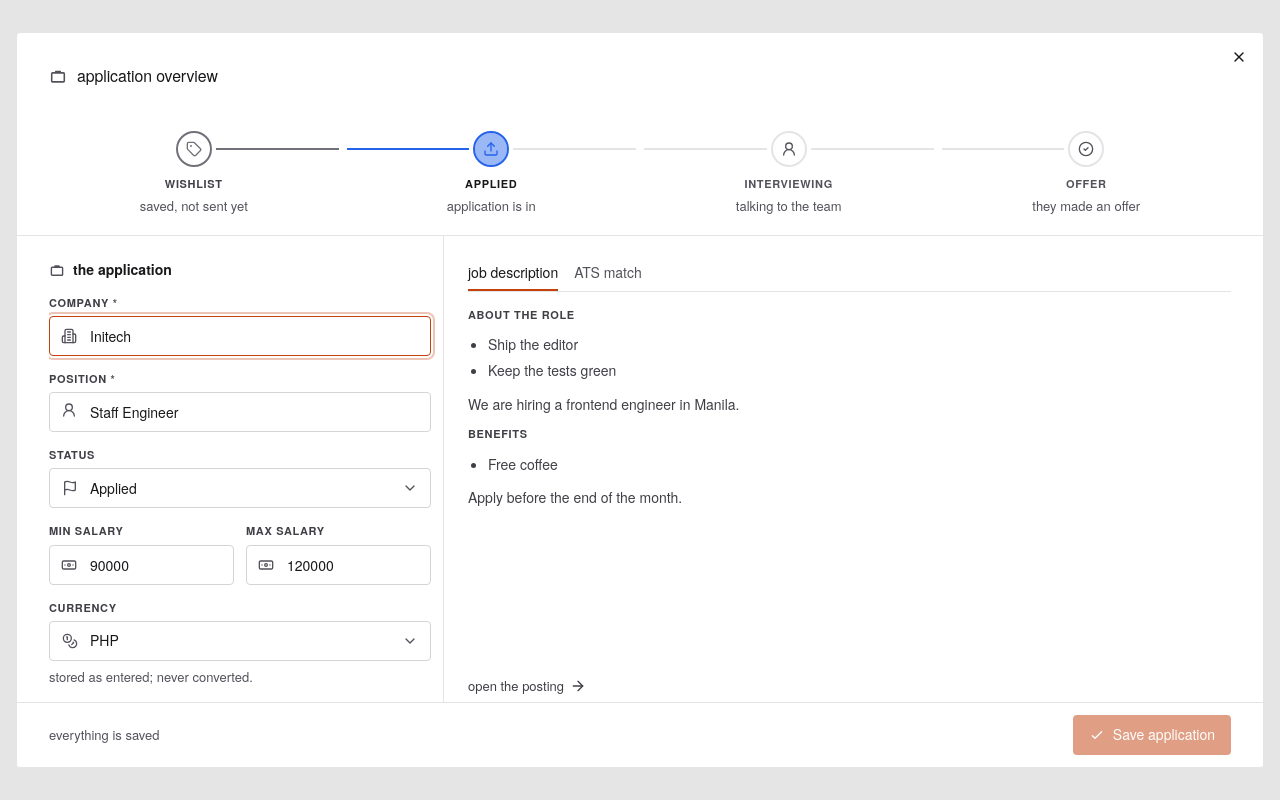
Test: reading the whole posting › comes back to the record with a typed-but-unsaved field still in it
Replace the text in the field labelled "company *" with "Umbrella": (240, 336) [49,316,431,356]
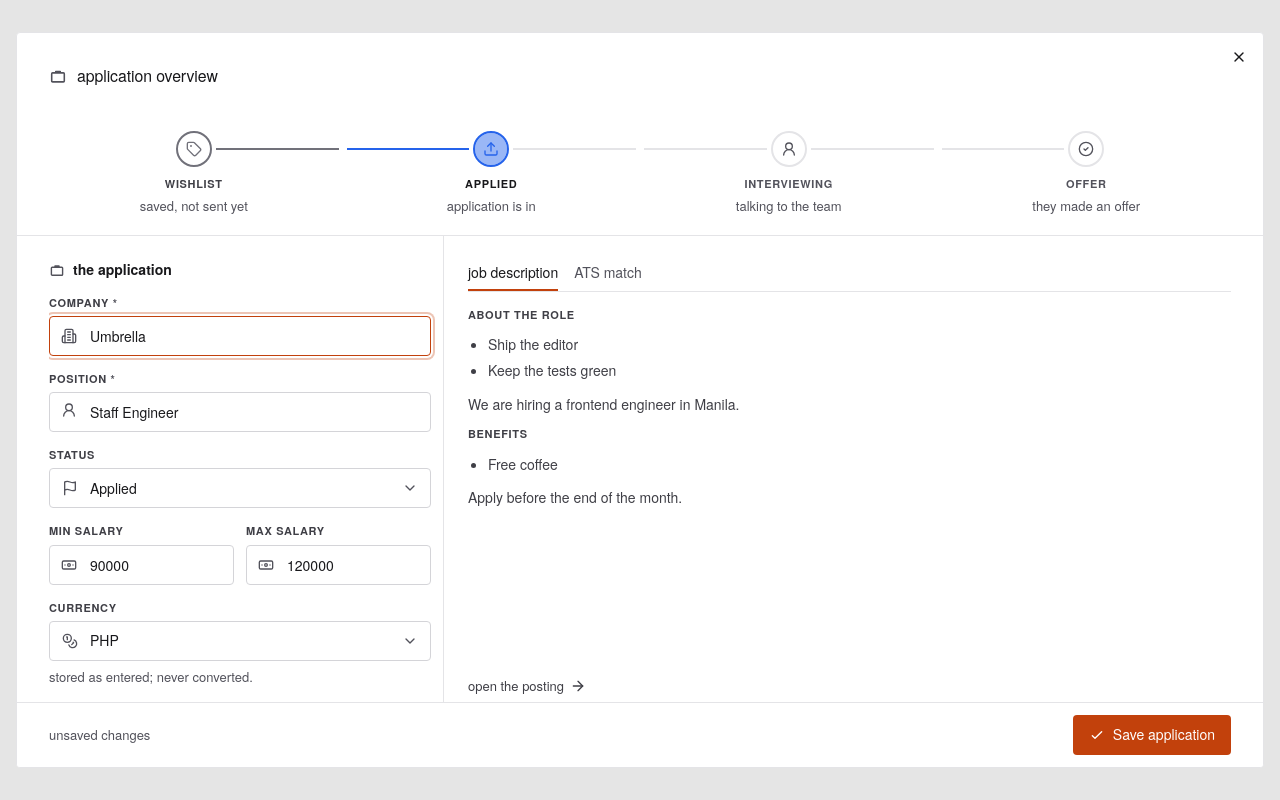
Click the button "open the posting": (527, 686) [468,670,586,702]
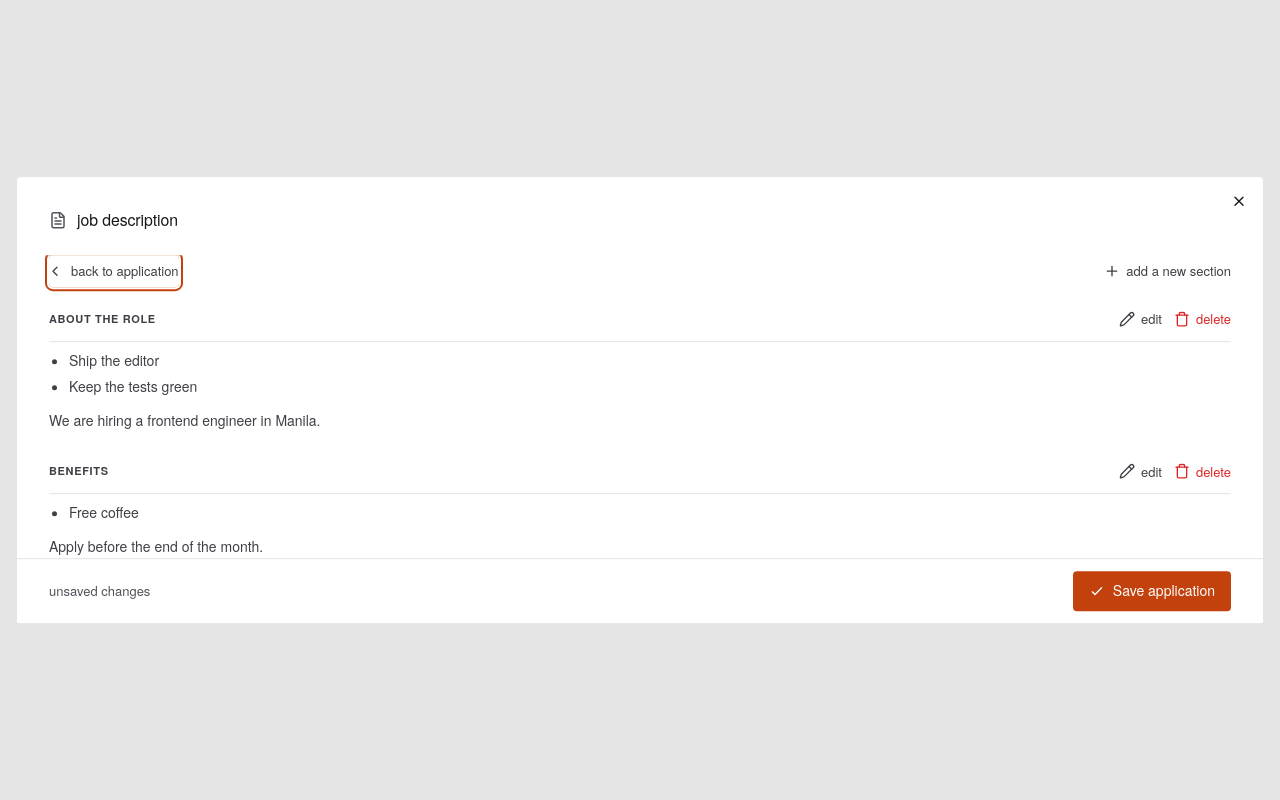
Click the button "back to application": (114, 271) [49,255,179,287]
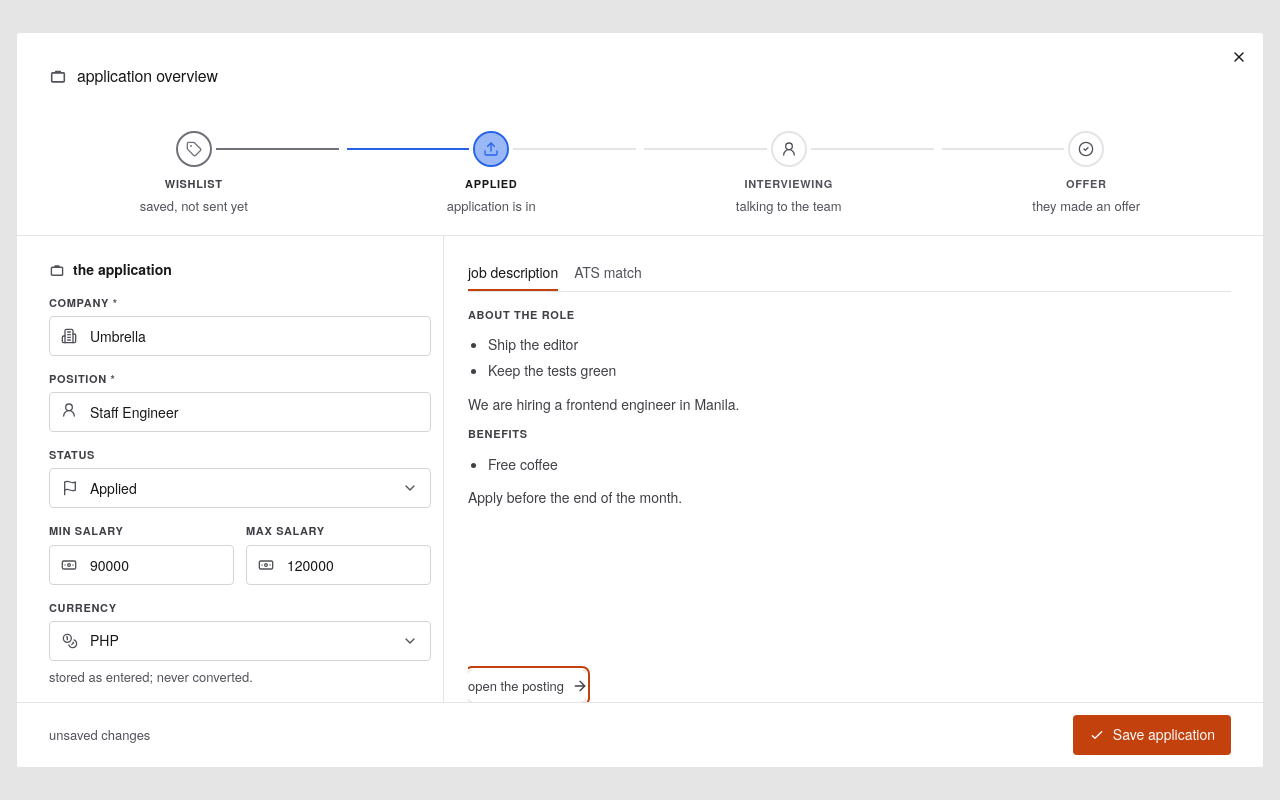
Check: the button "Save application" is enabled, box [1073,715,1231,755]
Check: the text "unsaved changes" is shown, box [49,725,150,745]
Check: the heading "application overview" is shown, box [77,65,218,87]
